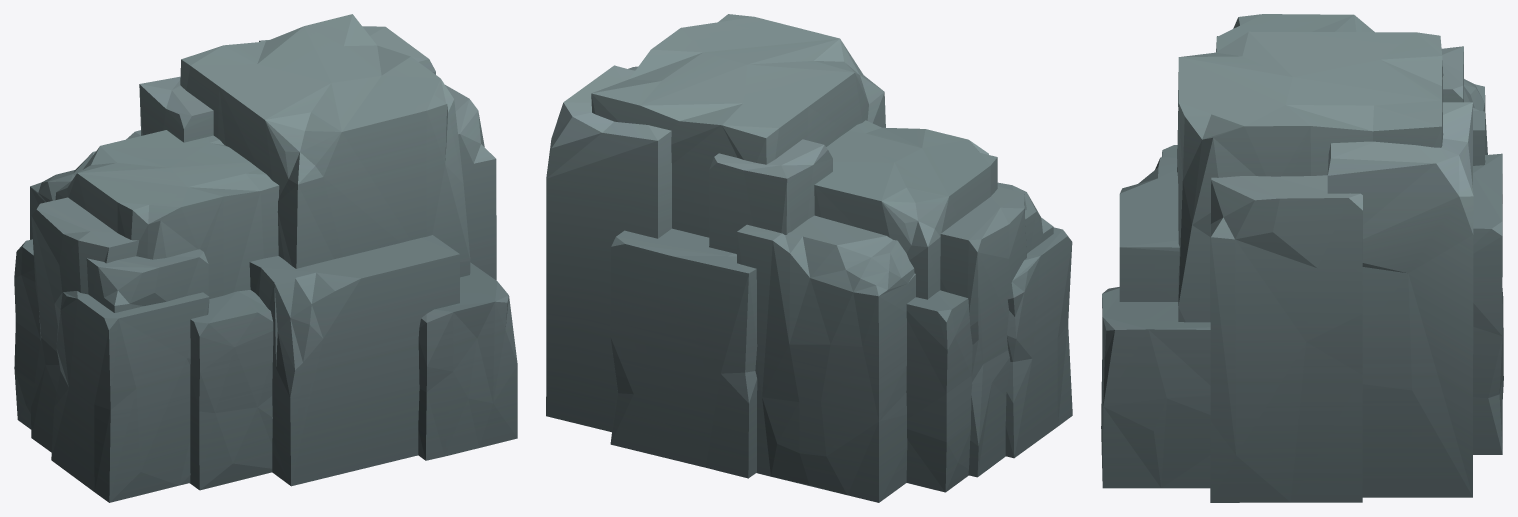
The model's file is BigRock_02.obj.
3 views of the same model, side by side, from view 1: azimuth 30°, elevation 25°; view 2: azimuth 150°, elevation 25°; view 3: azimuth 270°, elevation 25° (orthographic). The views are drawn at different scales.
Parts seen in each view (by area): view 1: BigRock_02; view 2: BigRock_02; view 3: BigRock_02.
Boxes of the visible parts, <box> form: BigRock_02: <box>14,14,517,502</box>; BigRock_02: <box>546,14,1072,502</box>; BigRock_02: <box>1101,14,1503,502</box>.
Bounding box in the file's own units: 6.92 × 5.2 × 5.33.
Materials: 1 (1 with a texture image).
